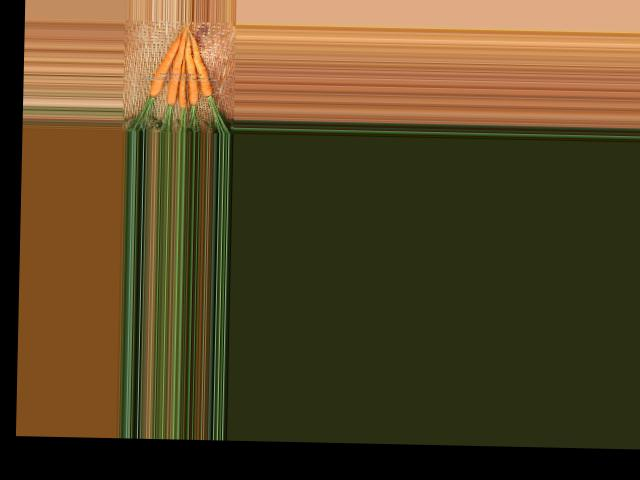carrot: (189, 36, 214, 97)
